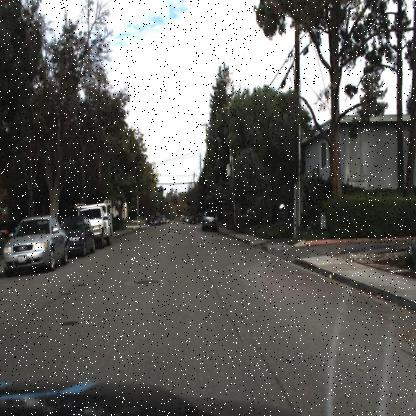car: (3, 216, 68, 280), (78, 196, 115, 250), (62, 210, 97, 260), (199, 206, 219, 232)
